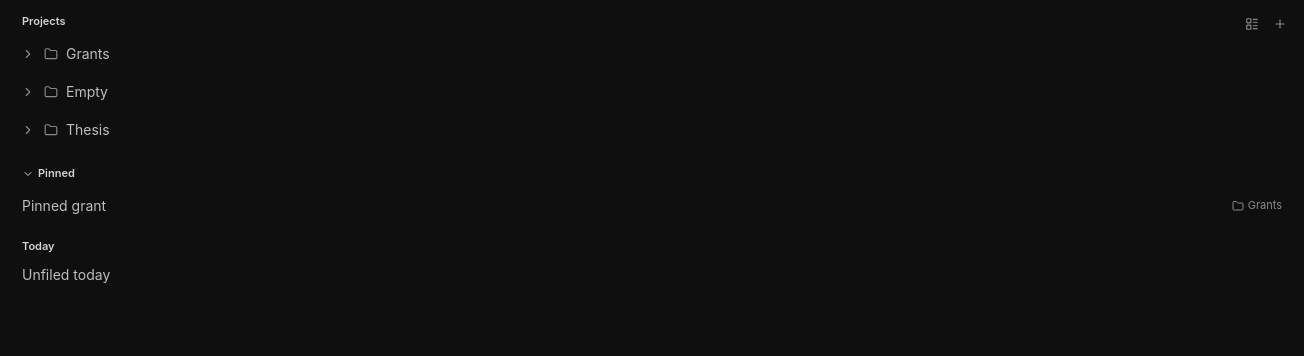
Scenario: sidebar projects › lists a pinned project conversation only in Pinned, still counted in Show all
Click the button named "Conversations in Grants": [28, 54] box [16,42,40,66]
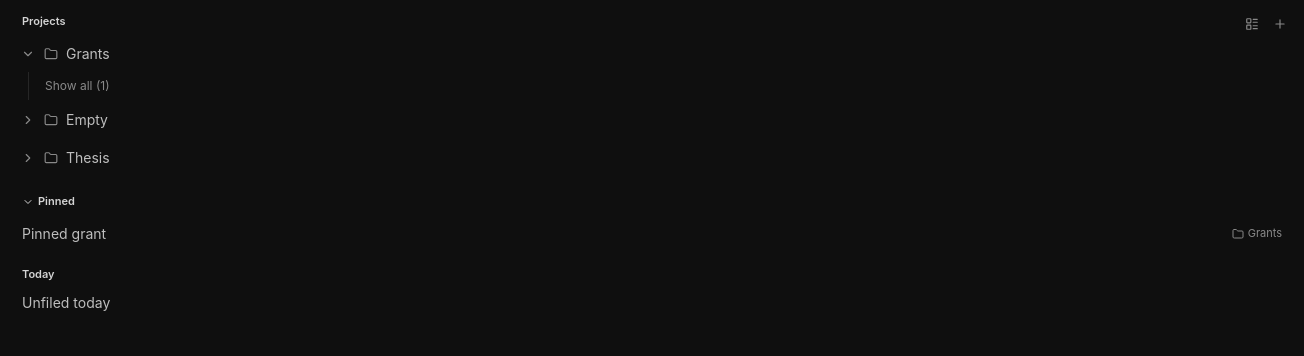
Expected: the number of links to "/chat/pg" is 1, [12,216,1292,252]
Click the button named "Conversations in Empty": [28, 120] box [16,108,40,132]
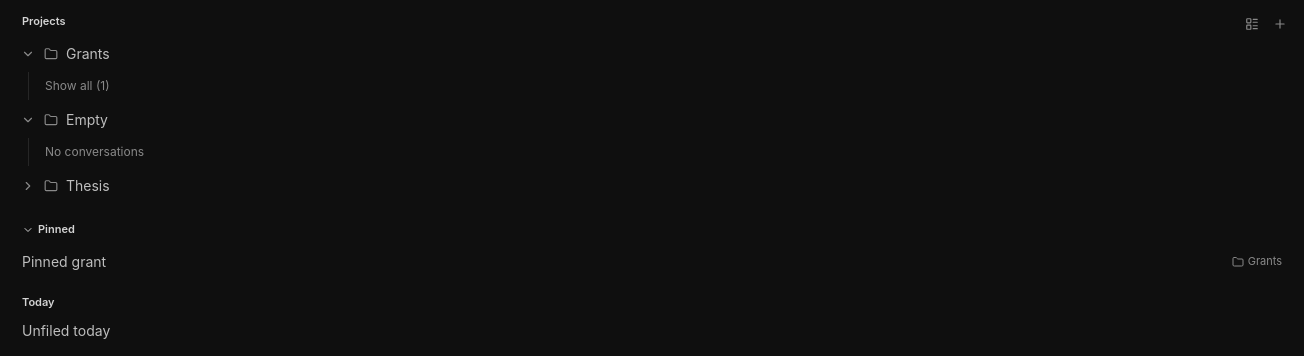
Expected: the element showing "No conversations" is shown, [12,138,1292,166]
